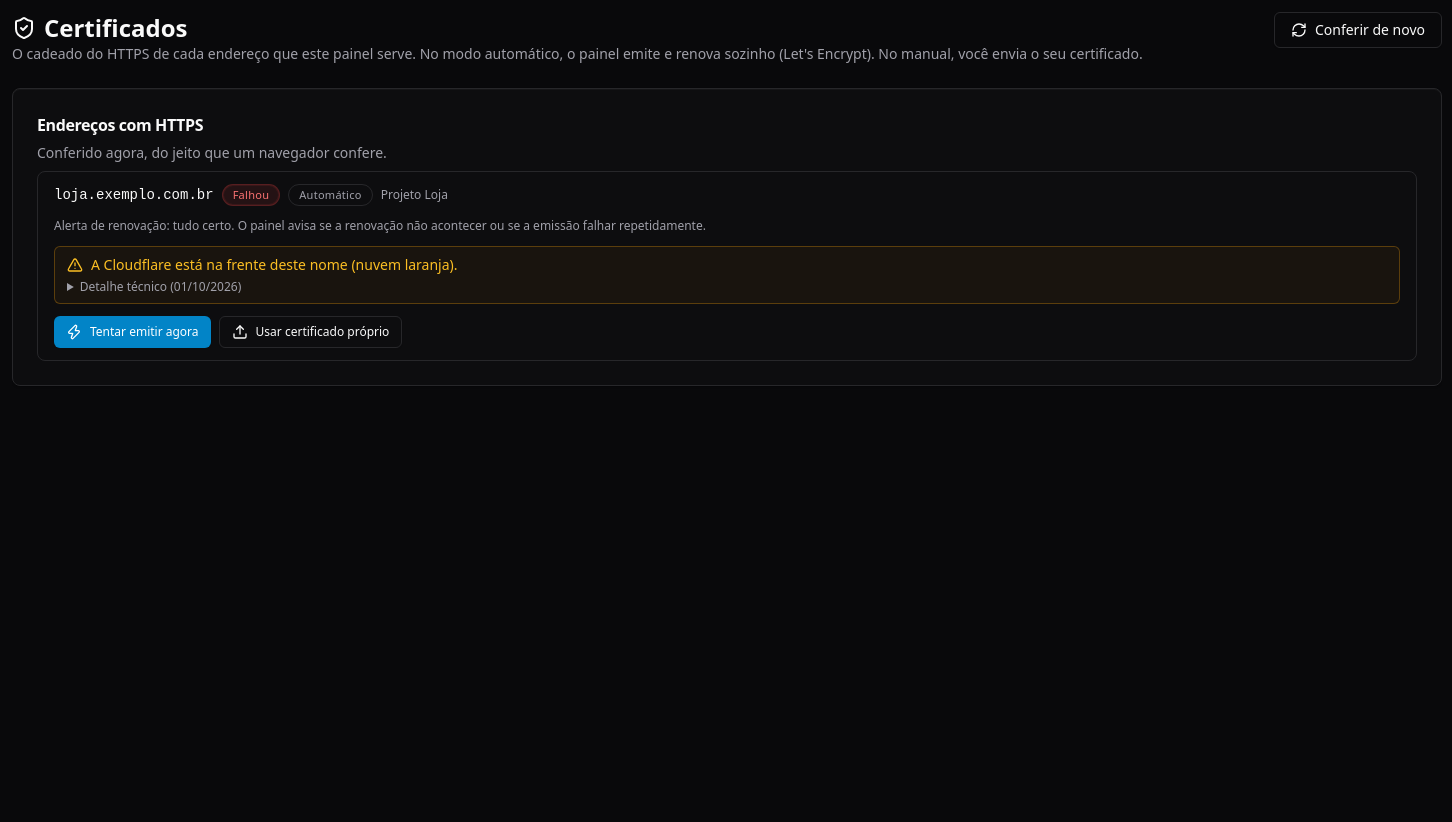
CertificatesPage — certificado próprio (manual) › envia certificado e chave; recusa aparece com o motivo; sucesso vira Manual
Step 1. Click the button "Usar certificado próprio" → (310, 332), box 219,316 -> 402,348
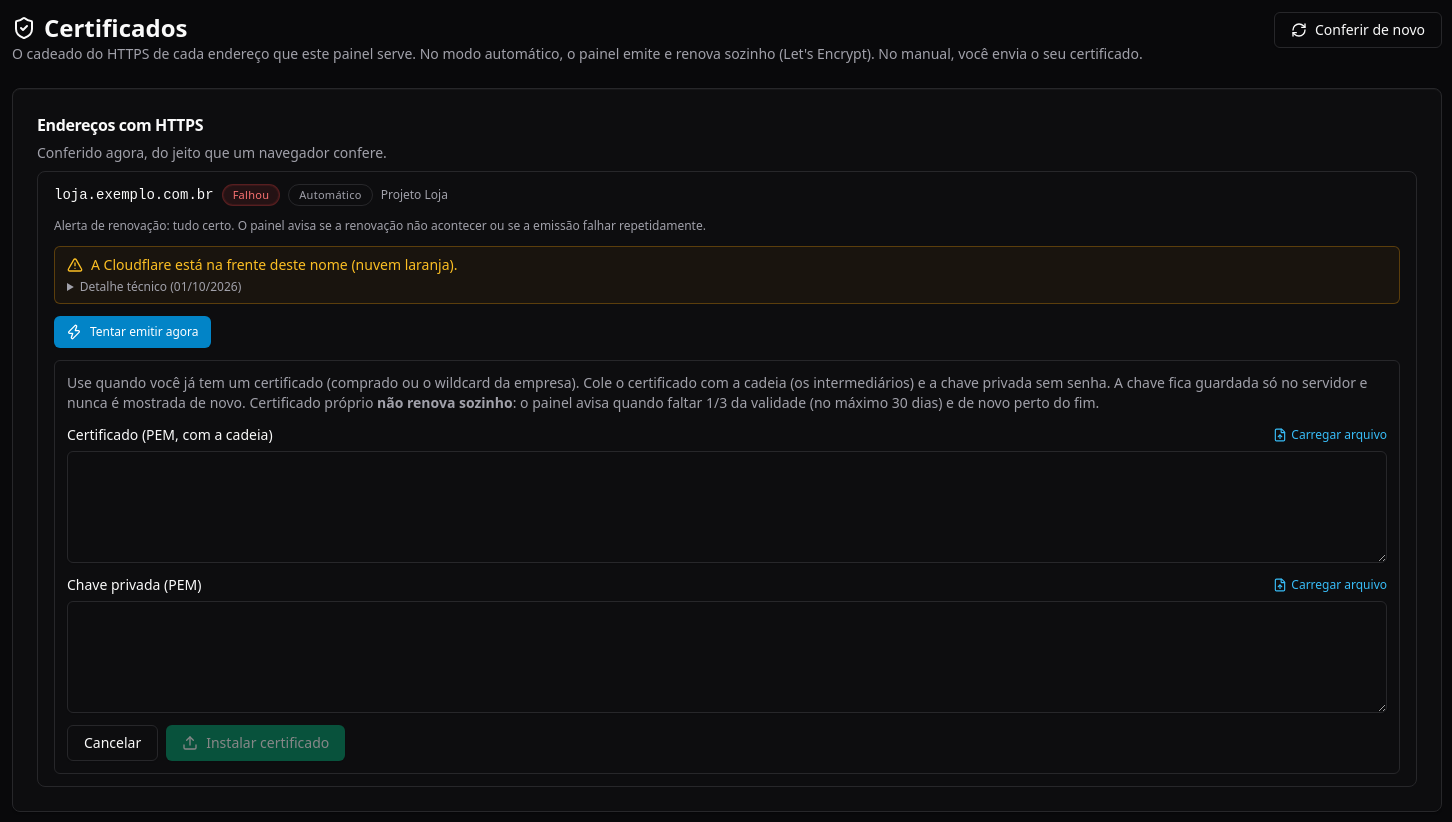
Step 2. Type "CERT-PEM" into the text box labelled "Certificado (PEM, com a cadeia)" → (727, 507), box 67,451 -> 1387,563
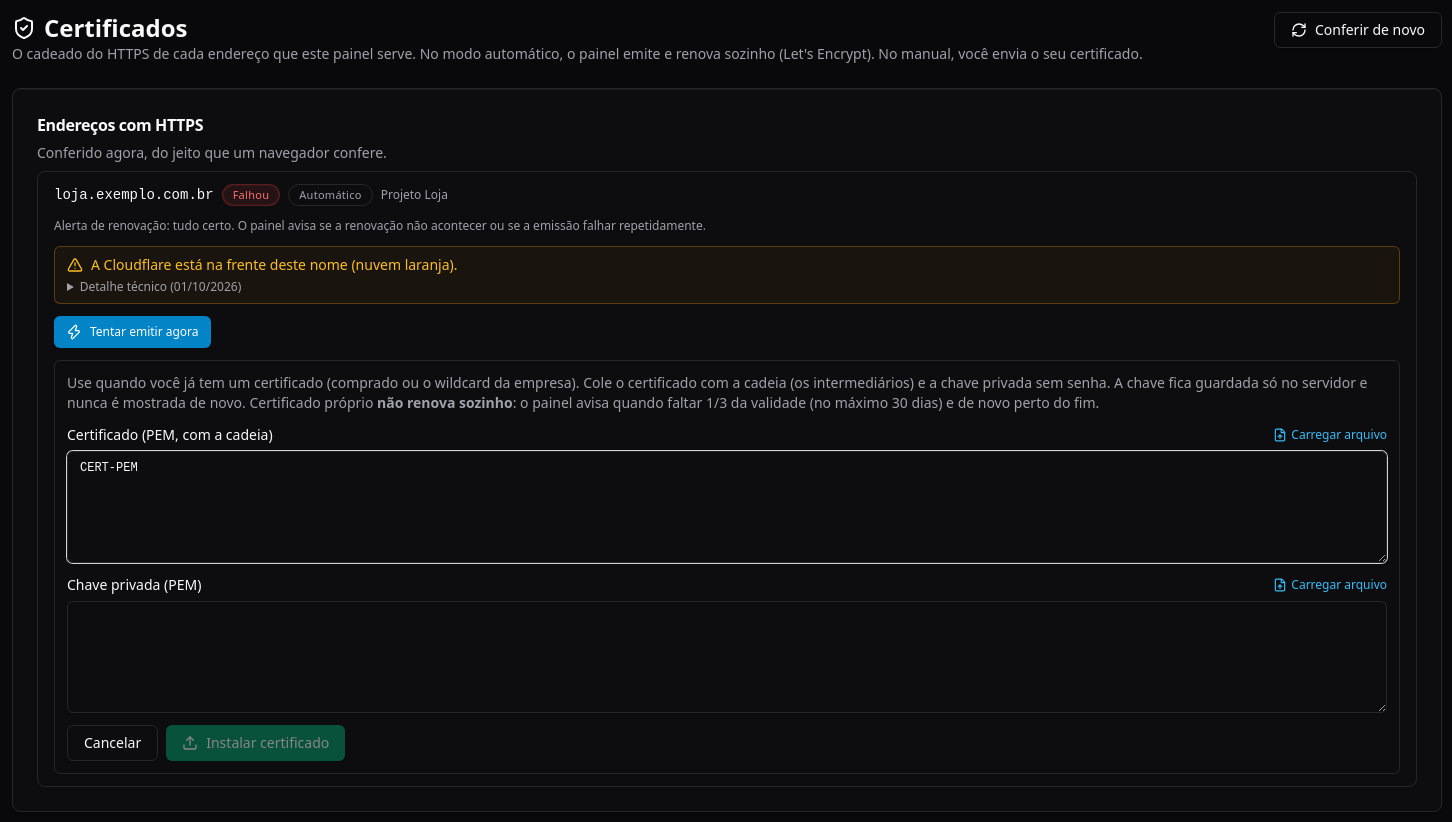
Step 3. Type "KEY-PEM" into the text box labelled "Chave privada (PEM)" → (727, 657), box 67,601 -> 1387,713
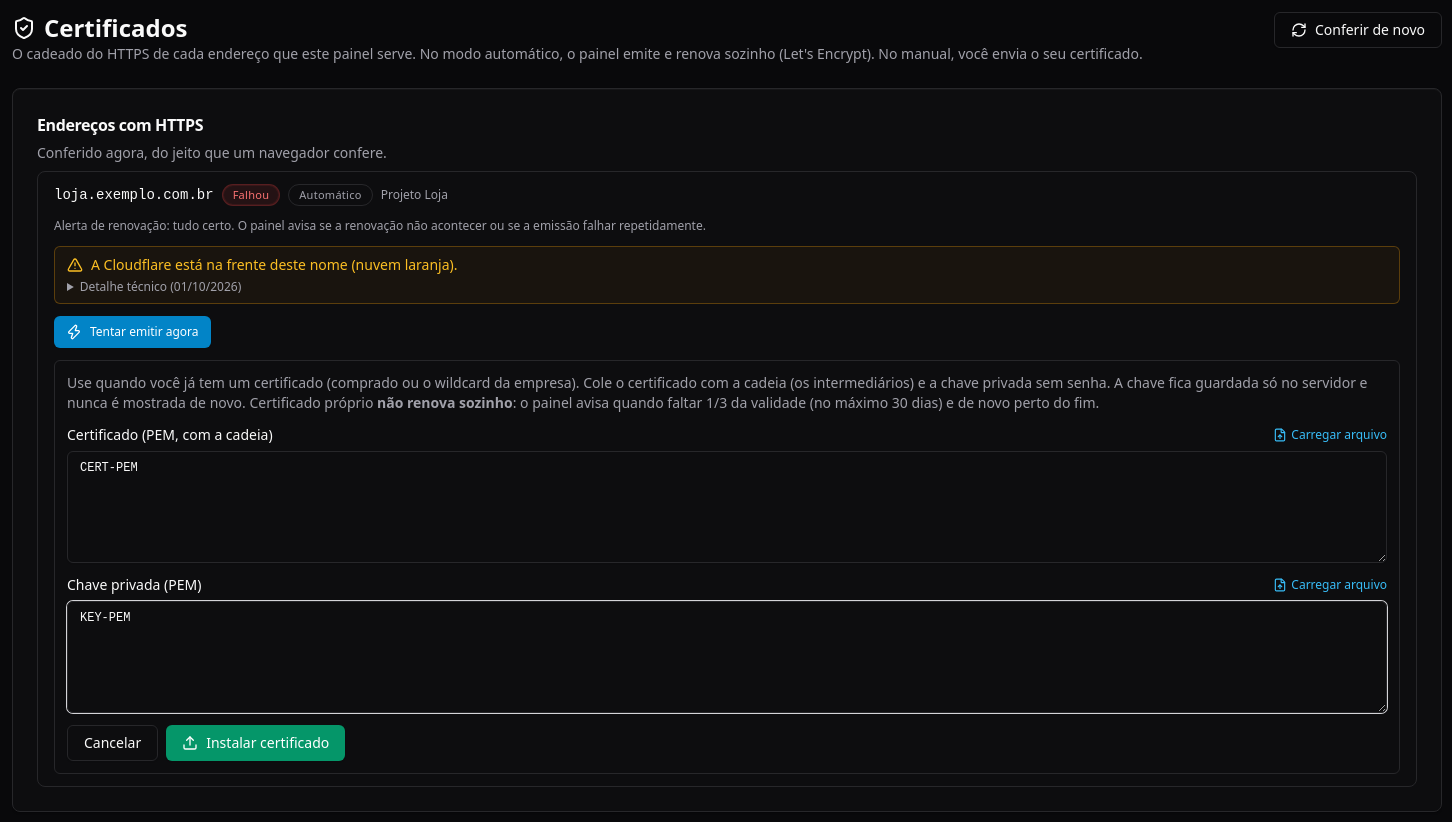
Step 4. Click the button "Instalar certificado" → (256, 743), box 166,725 -> 345,761
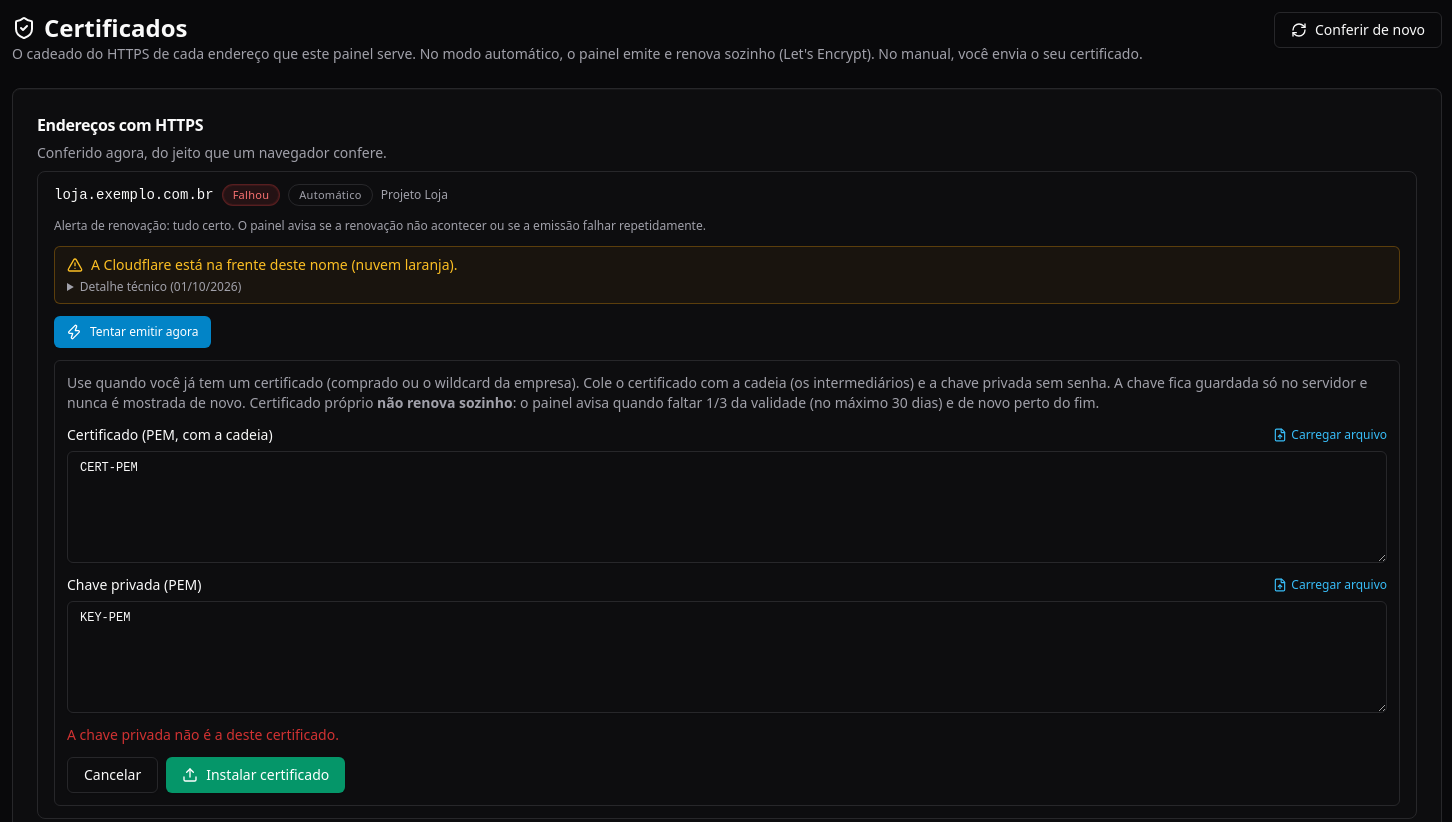
Now the text "A chave privada não é a deste certificado." is shown, box 67,725 -> 339,744
Step 5. Click the button "Instalar certificado" → (256, 775), box 166,757 -> 345,793
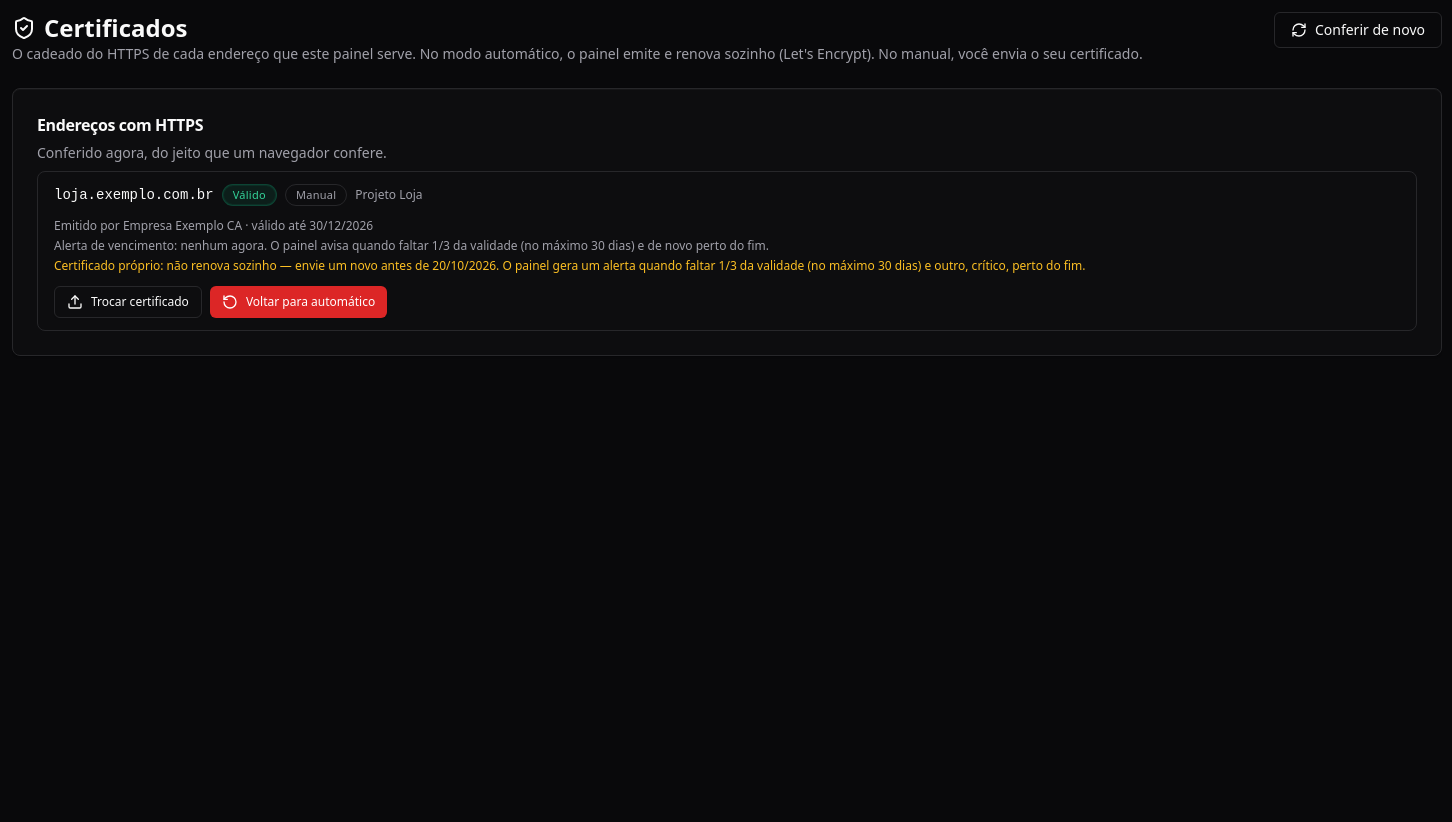
Now the text "Manual" is shown, box 285,184 -> 347,206
